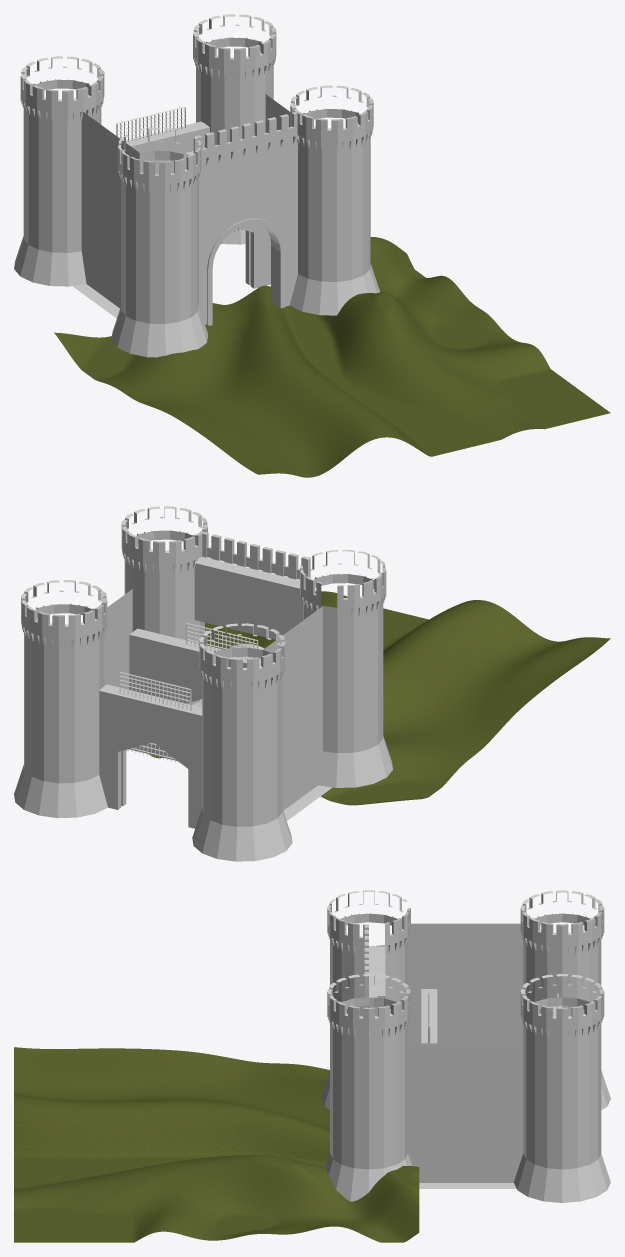
The model's file is map_test.glb.
3 views of the same model, one above another, from view 1: azimuth 30°, elevation 25°; view 2: azimuth 150°, elevation 25°; view 3: azimuth 270°, elevation 25° (orthographic). The views are drawn at different scales.
Parts seen in each view (by area): view 1: Plane.001, Tower 2, Tower 2.001, Tower 2.002, Gate Frame, Tower 2.006, Tower 2.003, Wall 1 - Fortified.001, Cube.003, Cube.001, Cube.004; view 2: Plane.001, Tower 2.002, Tower 2.003, Tower 2, Tower 2.006, Cube.003, Tower 2.001, Gate Frame, Cube.001, Wall 1 - Fortified.001, Tower 2.005, Cube.004 (+1 smaller); view 3: Plane.001, Tower 2.003, Tower 2.005, Tower 2.001, Tower 2.006, Tower 2.002, Tower 2, Wall 1 - Fortified.001, Cube.001.
Part boxes in pixels (box(x1,y1,x2,y2)): Plane.001: box(54, 237, 610, 477); Tower 2: box(111, 127, 208, 357); Tower 2.001: box(289, 85, 380, 315); Tower 2.002: box(14, 56, 104, 286); Gate Frame: box(198, 140, 297, 325); Tower 2.006: box(67, 112, 139, 318); Tower 2.003: box(193, 14, 276, 244); Wall 1 - Fortified.001: box(186, 112, 297, 165); Cube.003: box(123, 121, 209, 174); Cube.001: box(239, 224, 270, 288); Cube.004: box(116, 106, 185, 141); Plane.001: box(149, 591, 610, 805); Tower 2.002: box(192, 623, 292, 861); Tower 2.003: box(14, 580, 107, 818); Tower 2: box(300, 549, 392, 787); Tower 2.006: box(263, 606, 337, 820); Cube.003: box(99, 684, 202, 828); Tower 2.001: box(121, 506, 207, 707); Gate Frame: box(194, 557, 302, 649); Cube.001: box(129, 628, 260, 761); Wall 1 - Fortified.001: box(194, 532, 310, 588); Tower 2.005: box(104, 589, 132, 751); Cube.004: box(119, 672, 191, 762); Plane.001: box(14, 1047, 419, 1242); Tower 2.003: box(514, 974, 610, 1202); Tower 2.005: box(408, 1043, 523, 1188); Tower 2.001: box(325, 974, 411, 1201); Tower 2.006: box(408, 923, 523, 1043); Tower 2.002: box(520, 890, 610, 1110); Tower 2: box(321, 890, 410, 1109); Wall 1 - Fortified.001: box(364, 924, 385, 998); Cube.001: box(421, 989, 437, 1043).
Size of what is drawn, in the model's own units: 50 by 27.58 by 73.65.
Materials: 1 (1 with a texture image).
